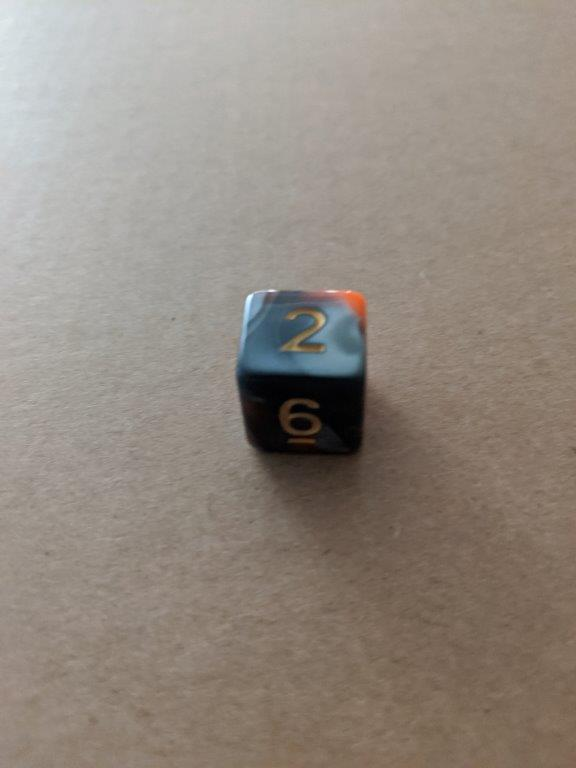d6-2: (234, 287, 369, 463)
